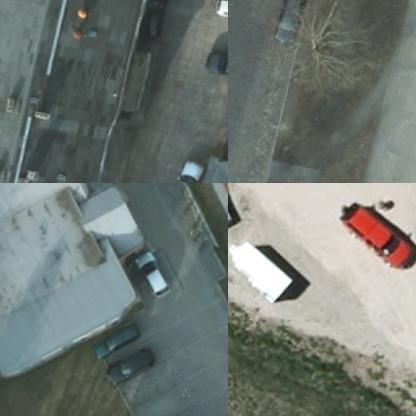camping car: (228, 235, 300, 304)
car: (340, 192, 415, 276), (136, 249, 176, 301), (270, 0, 309, 46), (112, 346, 172, 375), (97, 324, 151, 356), (173, 158, 210, 182), (204, 49, 227, 80), (212, 0, 227, 23)
